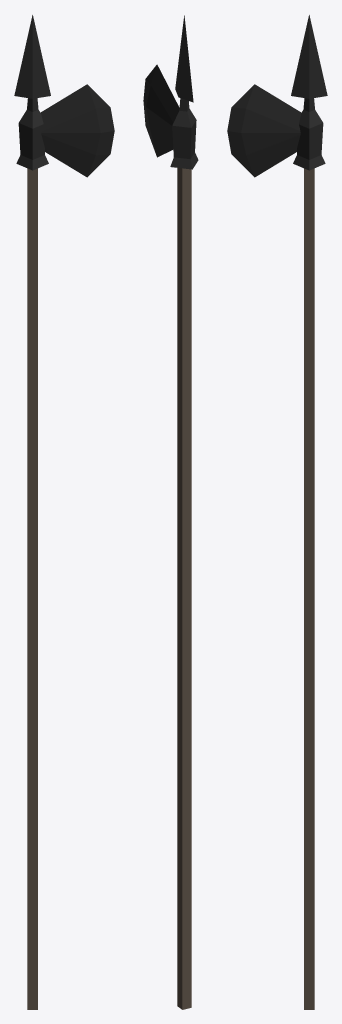
File: Spear_04.fbx
The picture shows the model from 3 angles, left to right: view 1: azimuth 90°, elevation 25°; view 2: azimuth 210°, elevation 25°; view 3: azimuth 270°, elevation 25°; orthographic projection.
Parts seen in each view (by area): view 1: Spear_04; view 2: Spear_04; view 3: Spear_04.
Boxes of the visible parts, x1,y1,x2,y2 form: Spear_04: (14, 15, 114, 1009); Spear_04: (143, 15, 198, 1009); Spear_04: (227, 15, 327, 1009).
Size of the model in its own units: 2.23 by 74.57 by 6.83.
